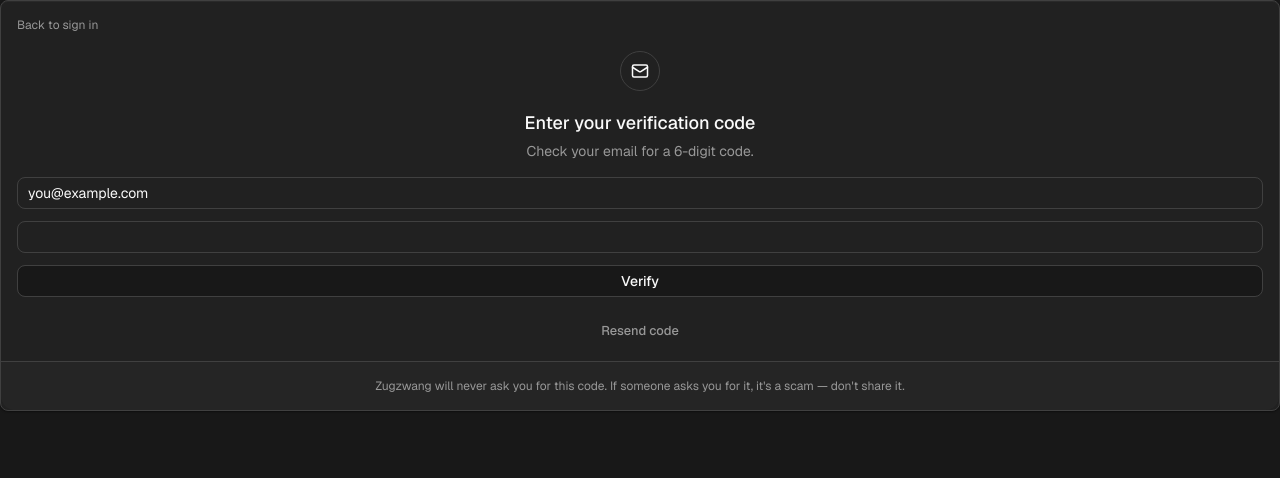
Test: UI-A7 otp skin — branded presentation (DRIVER, RED pre-skin) › otp-skin::invalid-otp-renders-an-alert-callout
Step 1. Type "000000" into the field named "otp" → (640, 237), box [17,221,1263,253]
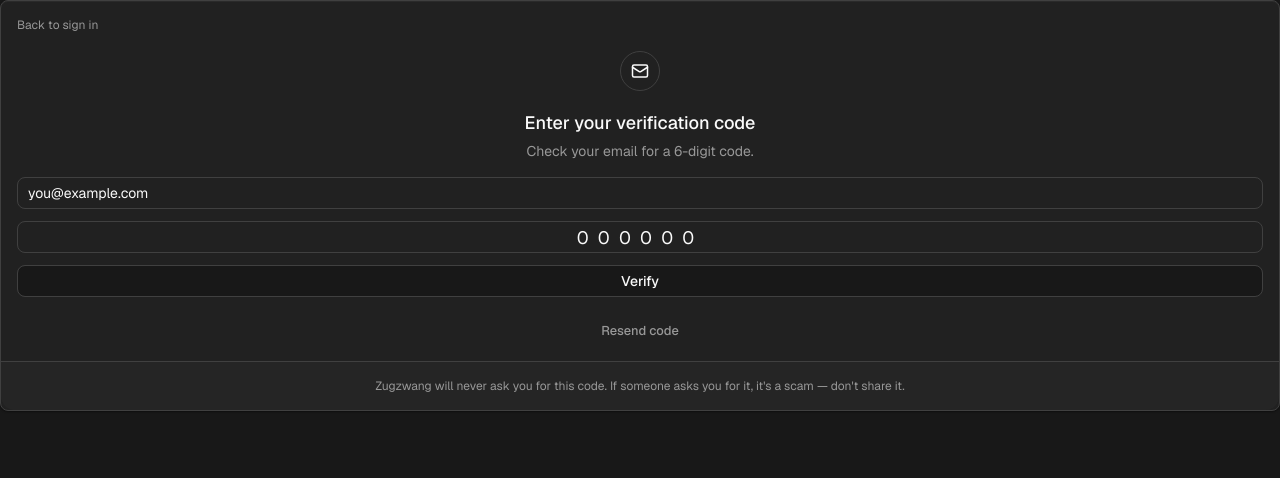
Step 2. Submit the form named "otp", box [17,177,1263,297]
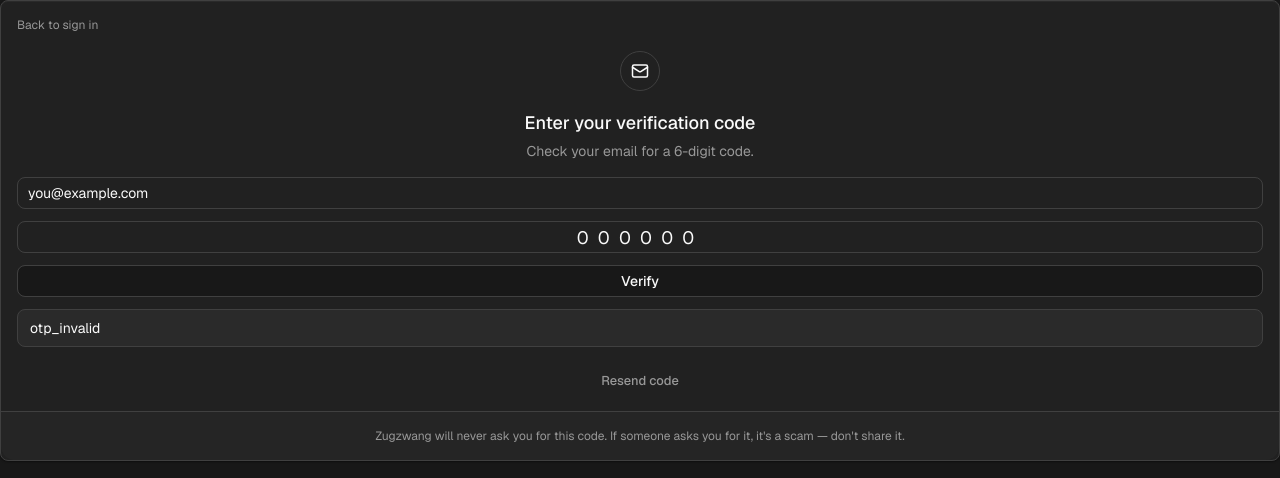
Check: the message reads "otp_invalid", box [30,319,100,337]
